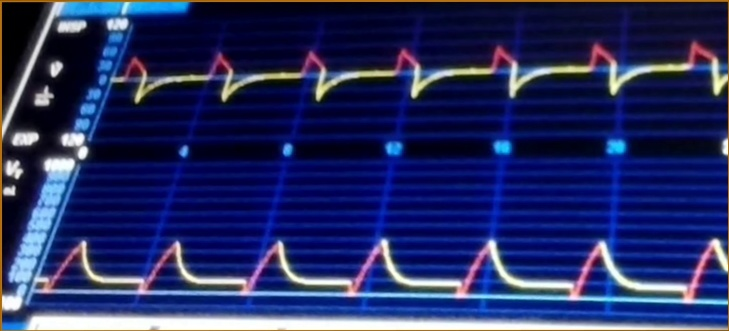Flow: (123, 29, 729, 136)
Leakage Volume: (38, 228, 729, 314)
